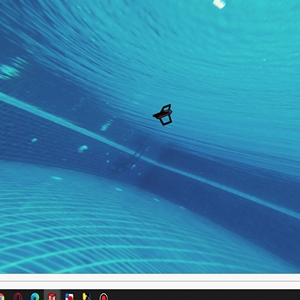submarine: (153, 104, 174, 125)
